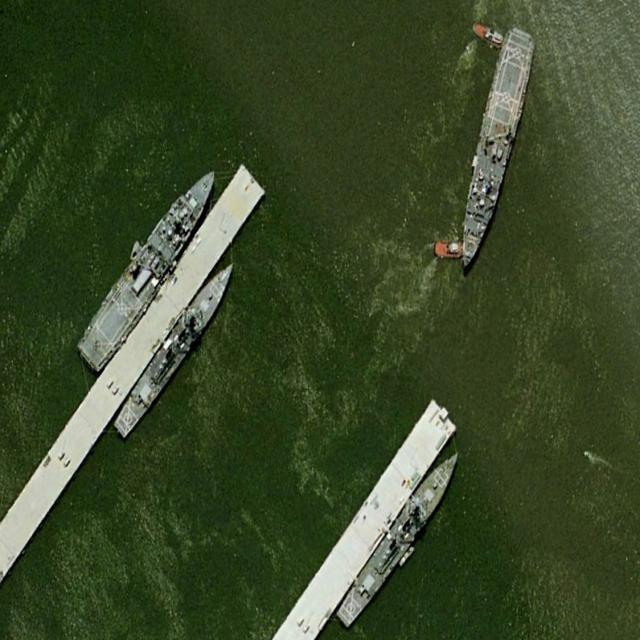Destroyer: (333, 439, 467, 632), (109, 254, 240, 443)
Hovercraft: (470, 18, 503, 46), (433, 239, 462, 259)
Landing: (71, 155, 225, 376), (451, 22, 539, 275)
